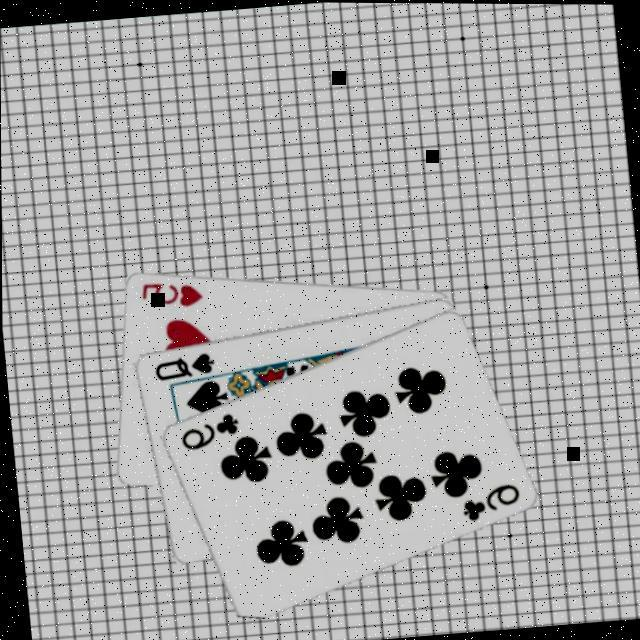5H: (136, 274, 208, 312)
9C: (176, 408, 245, 454), (456, 479, 524, 525)
QS: (150, 348, 218, 384)
